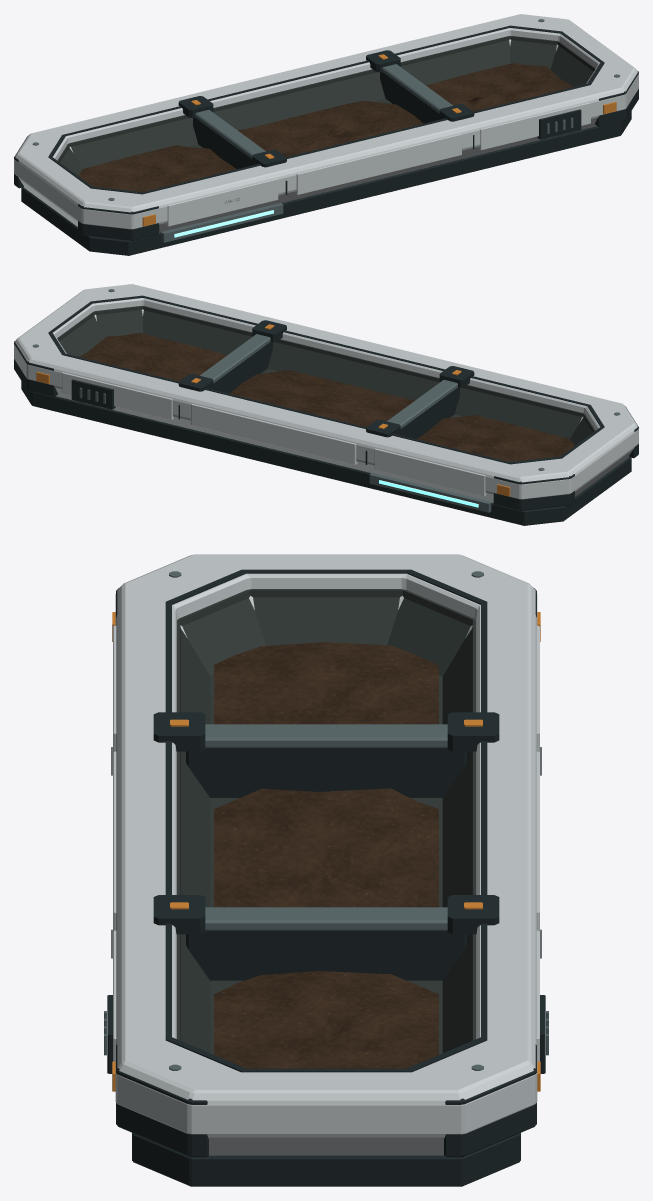
File: Saksı 1x3.fbx
3 views of the same model, one above another, from view 1: azimuth 30°, elevation 25°; view 2: azimuth 150°, elevation 25°; view 3: azimuth 270°, elevation 25° (orthographic). The views are drawn at different scales.
Visible parts, largest first — view 1: CAN_1x3_DIVIDED_GAME; view 2: CAN_1x3_DIVIDED_GAME; view 3: CAN_1x3_DIVIDED_GAME.
Boxes of the visible parts, <box> form: CAN_1x3_DIVIDED_GAME: <box>14,14,638,255</box>; CAN_1x3_DIVIDED_GAME: <box>14,284,638,525</box>; CAN_1x3_DIVIDED_GAME: <box>104,554,548,1186</box>.
Size of the model in its own units: 5.95 by 0.555 by 2.06.
